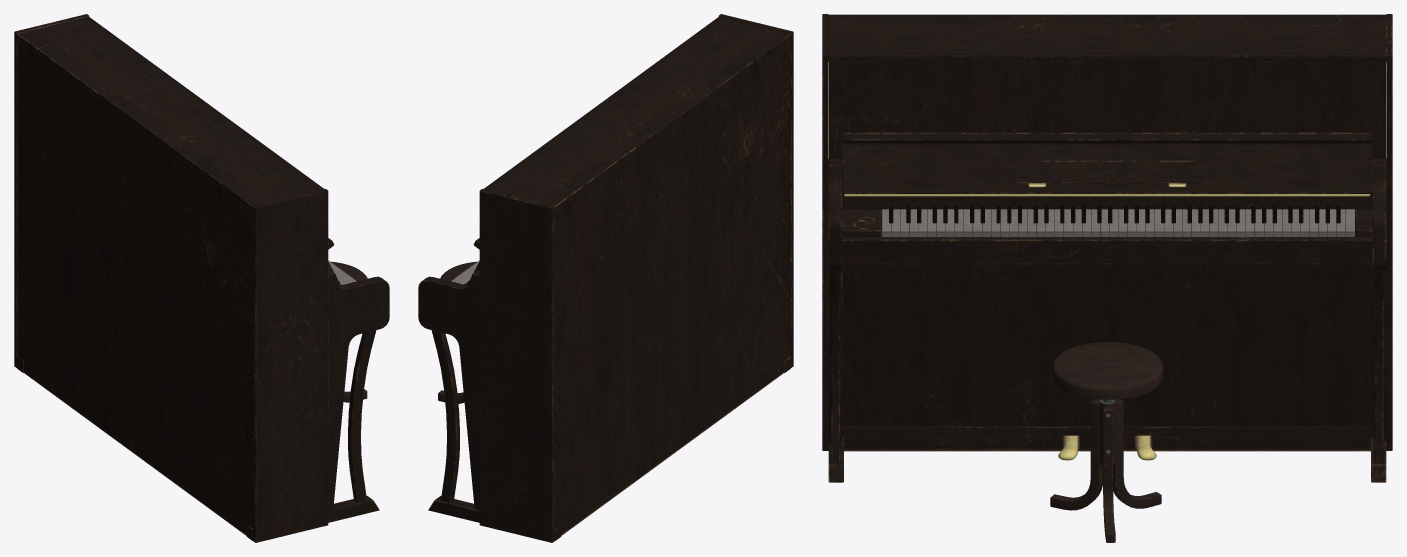
File: piano.glb
3 views of the same model, side by side, from view 1: azimuth 30°, elevation 25°; view 2: azimuth 150°, elevation 25°; view 3: azimuth 270°, elevation 25° (orthographic). The views are drawn at different scales.
Parts seen in each view (by area): view 1: Piano; view 2: Piano, Stool; view 3: Piano, keys_white, Stool, keys_black.
Part boxes in pixels (left/top/right/bottom): Piano: left=14, top=14, right=389, bottom=542; Piano: left=418, top=14, right=793, bottom=542; Stool: left=438, top=261, right=476, bottom=403; Piano: left=822, top=14, right=1392, bottom=482; keys_white: left=882, top=209, right=1354, bottom=236; Stool: left=1050, top=342, right=1163, bottom=542; keys_black: left=889, top=206, right=1340, bottom=230.
Size of the model in its own units: 214 by 295 by 385.
Materials: 3 (3 with a texture image).
